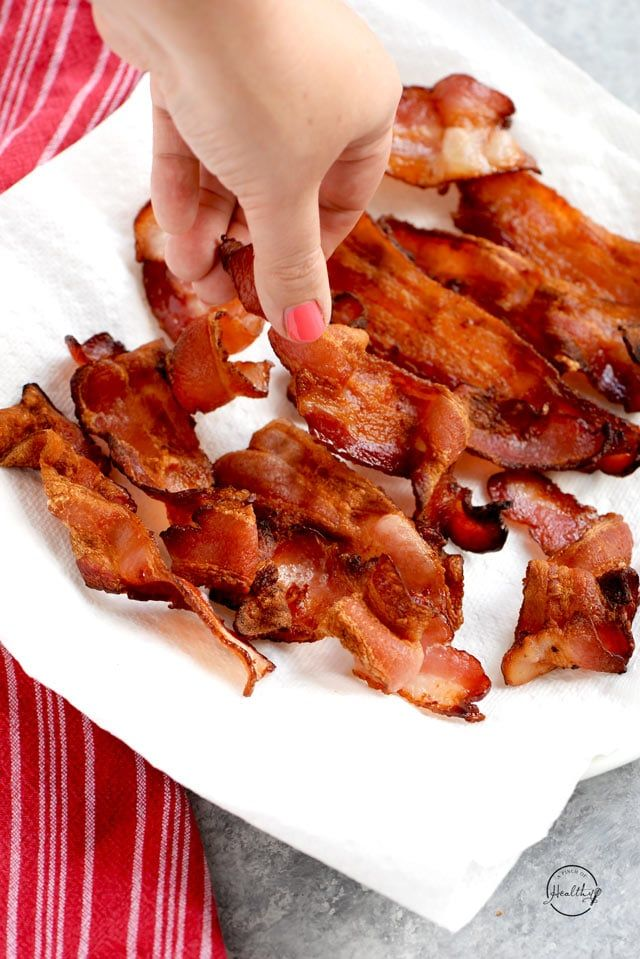bacon: (178, 322, 585, 563), (272, 96, 623, 321)
